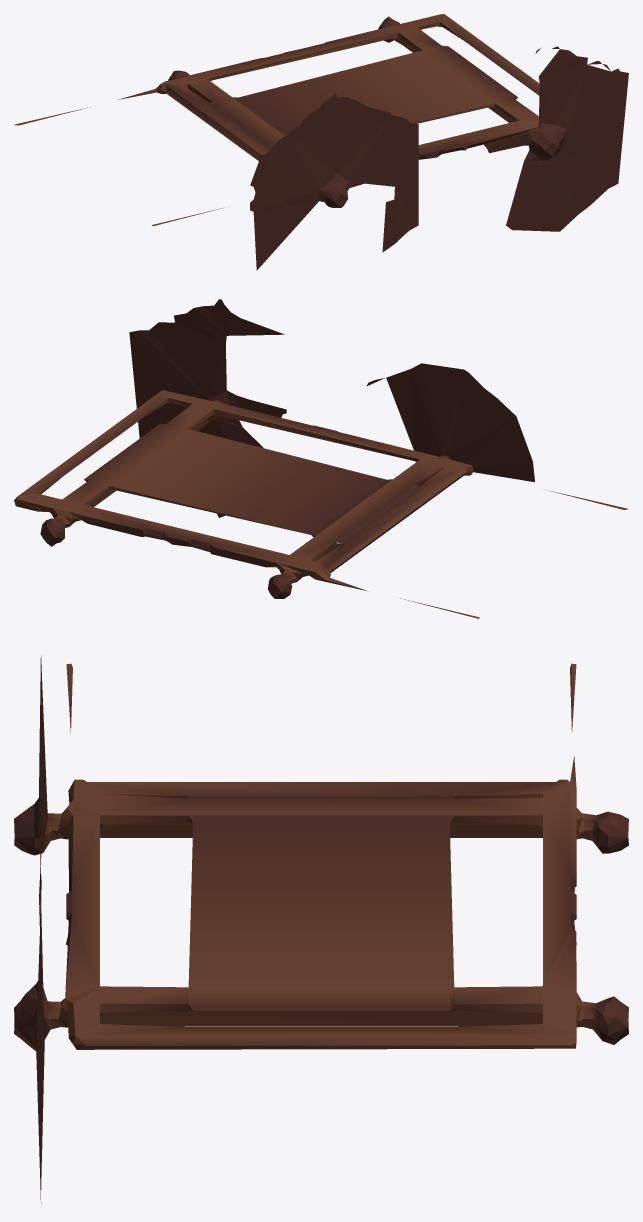
The model's file is Carts and Wagons(2).glb.
3 views of the same model, one above another, from view 1: azimuth 30°, elevation 25°; view 2: azimuth 150°, elevation 25°; view 3: azimuth 270°, elevation 25° (orthographic). The views are drawn at different scales.
Parts seen in each view (by area): view 1: Root; view 2: Root; view 3: Root.
Part boxes in pixels (<box>): Root: <box>14,14,628,270</box>; Root: <box>14,299,628,618</box>; Root: <box>14,656,628,1202</box>.
Bounding box in the file's own units: 5.21 × 2.15 × 3.22.
